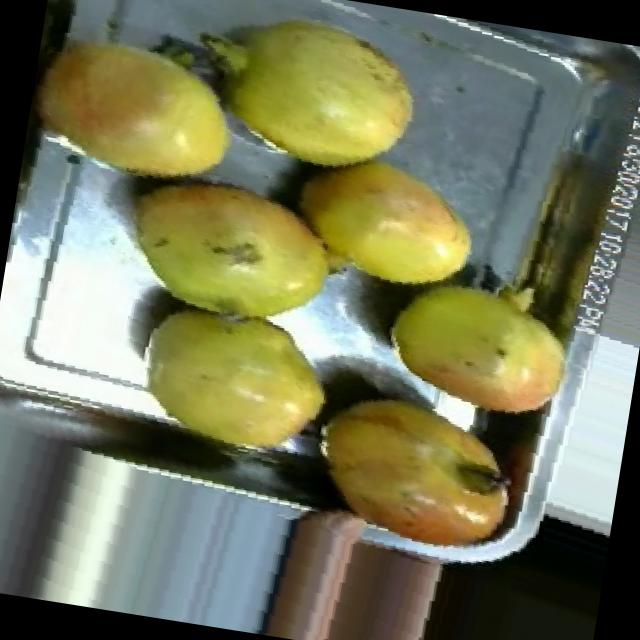fruit: (97, 143, 370, 358), (280, 360, 544, 580), (176, 0, 445, 204), (110, 281, 358, 482), (356, 245, 594, 440), (272, 132, 500, 320), (235, 486, 469, 640)
